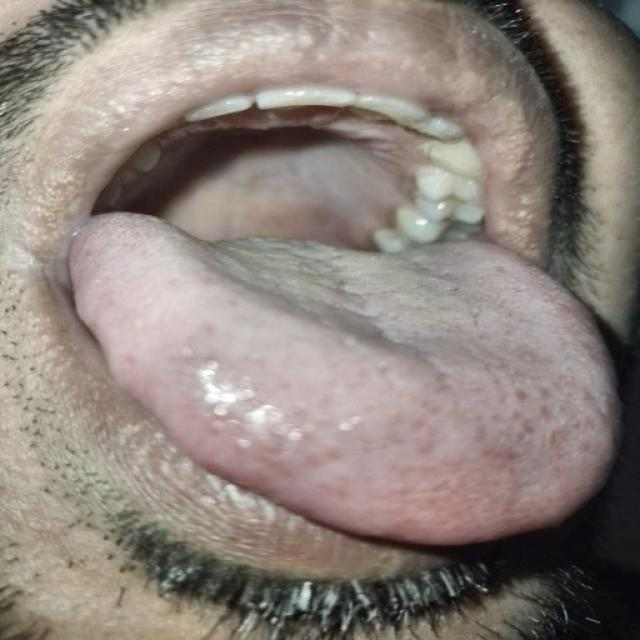processing_area: (61, 116, 621, 540)
